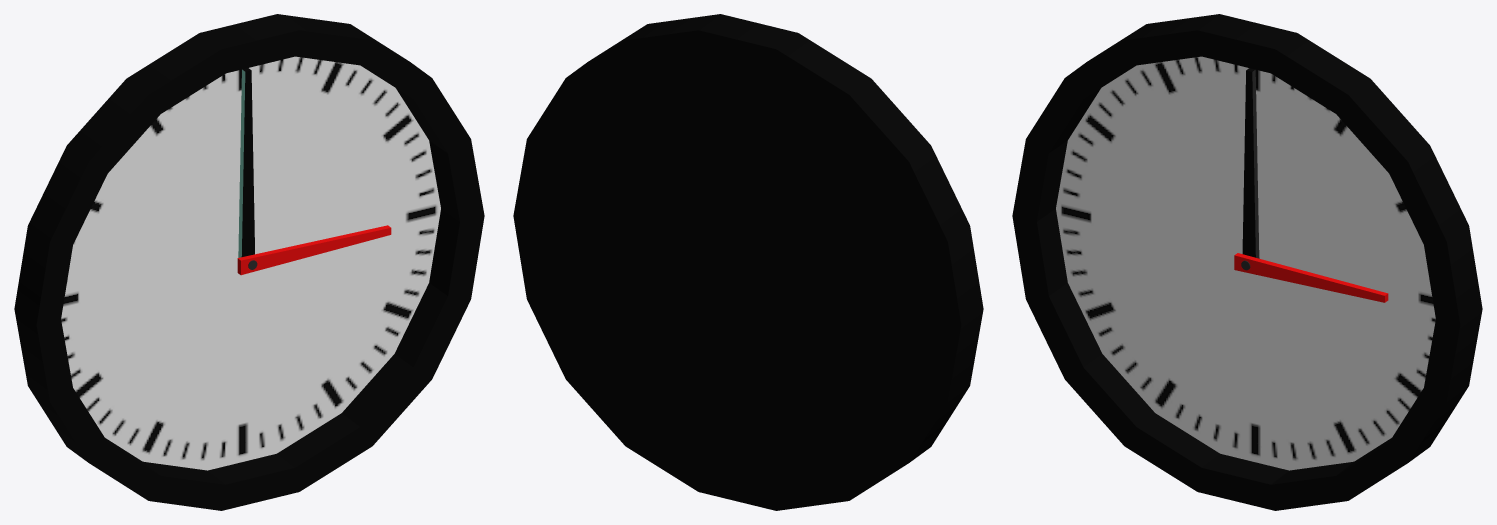
Rendered from Clock.fbx.
3 views of the same model, side by side, from view 1: azimuth 30°, elevation 25°; view 2: azimuth 150°, elevation 25°; view 3: azimuth 330°, elevation 25° (orthographic).
Visible parts, largest first — view 1: Frame, Big Hand, Small Hand; view 2: Frame; view 3: Frame, Big Hand, Small Hand.
Boxes of the visible parts, box(x1,y1,x2,y2) form: Frame: box(14, 14, 484, 510); Big Hand: box(238, 68, 254, 257); Small Hand: box(237, 225, 391, 275); Frame: box(513, 14, 983, 510); Frame: box(1012, 14, 1482, 510); Big Hand: box(1242, 68, 1259, 258); Small Hand: box(1234, 253, 1388, 302).
Bounding box in the file's own units: 70 × 68.94 × 6.
Materials: 6 (1 with a texture image).
